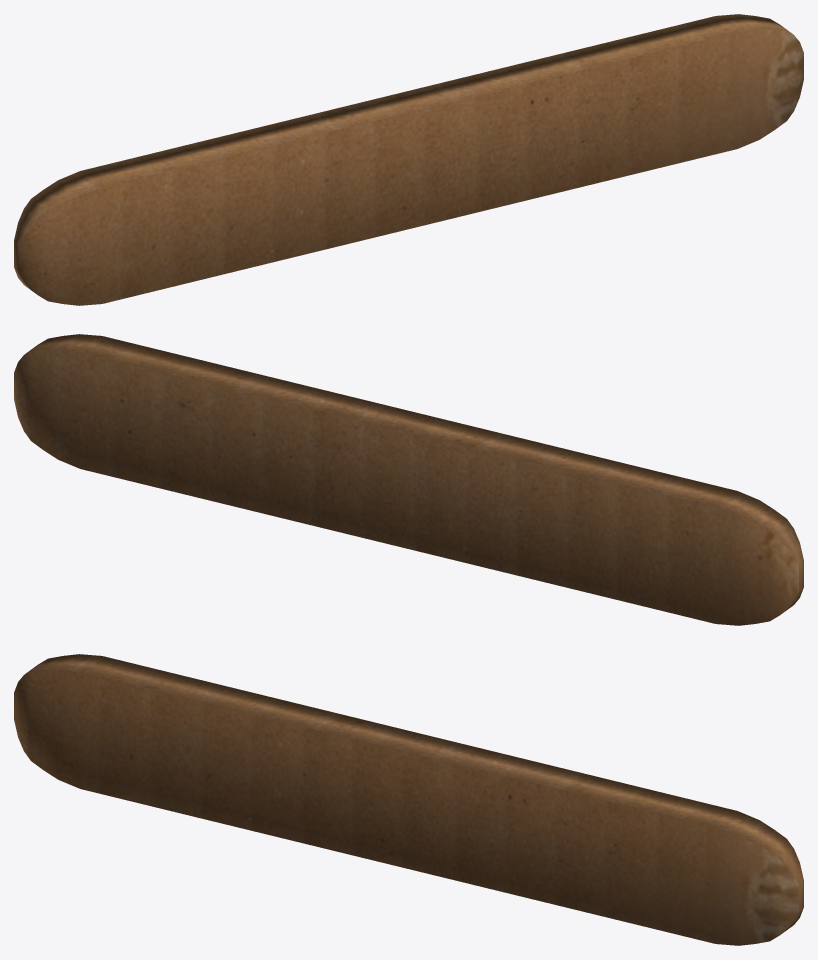
File: popsicleStick.fbx
3 renders of one model, top to bottom at view 1: azimuth 30°, elevation 25°; view 2: azimuth 150°, elevation 25°; view 3: azimuth 330°, elevation 25°, orthographic.
Parts seen in each view (by area): view 1: Cube.001; view 2: Cube.001; view 3: Cube.001.
Boxes of the visible parts, bbox=[...] form: Cube.001: bbox=[14, 14, 803, 305]; Cube.001: bbox=[14, 334, 803, 625]; Cube.001: bbox=[14, 654, 803, 945].
Size of the model in its own units: 337 by 47.93 by 16.47.
